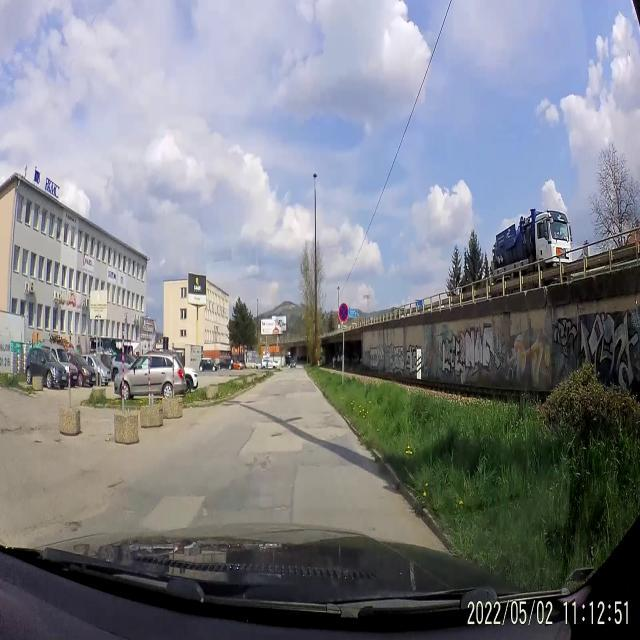Pothole: (248, 448, 274, 478), (104, 476, 127, 498), (268, 427, 286, 441)
